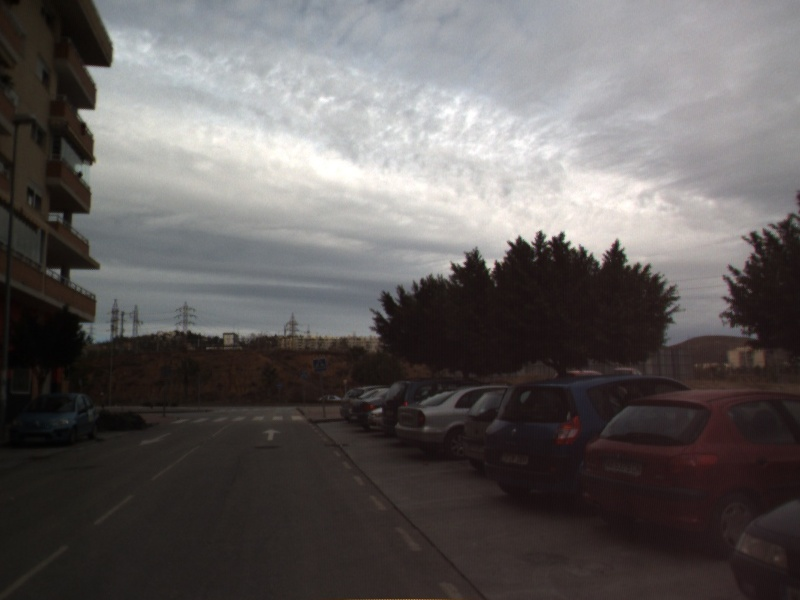STRAIGHT: (260, 427, 284, 442)
